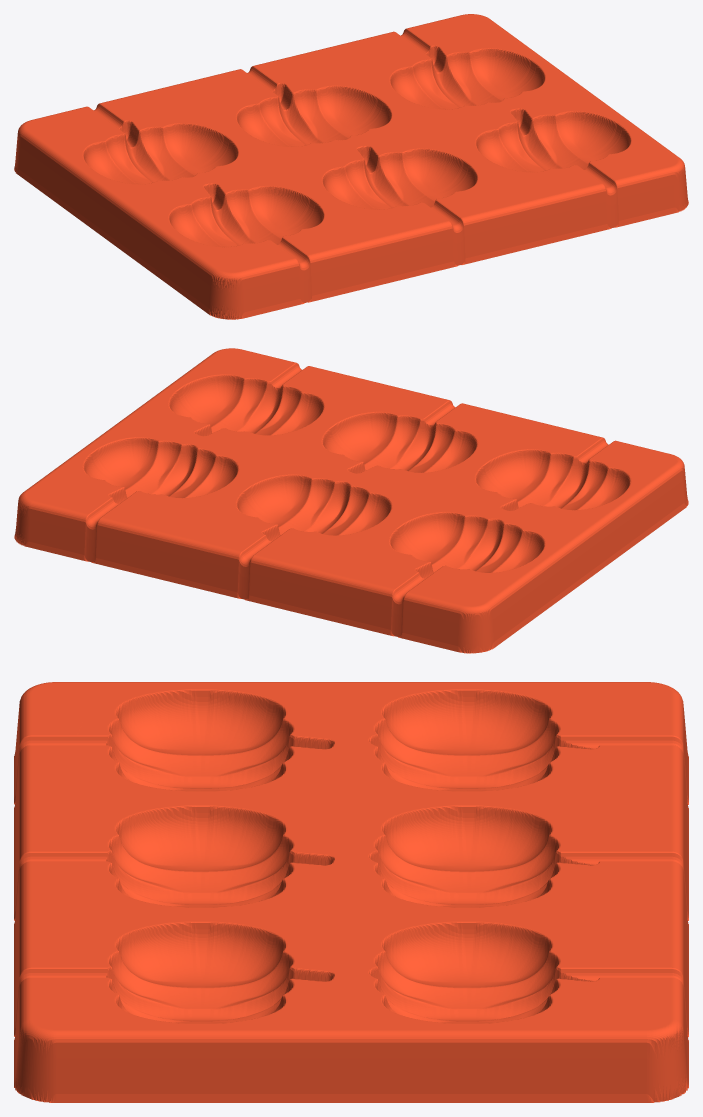
Rendered from mold.glb.
3 renders of one model, top to bottom at view 1: azimuth 30°, elevation 25°; view 2: azimuth 150°, elevation 25°; view 3: azimuth 270°, elevation 25°, orthographic. The views are drawn at different scales.
Visible parts, largest first — view 1: geometry_0; view 2: geometry_0; view 3: geometry_0.
Part boxes in pixels (x1,y1,x2,y2): geometry_0: (14, 14, 688, 319); geometry_0: (14, 348, 688, 653); geometry_0: (14, 682, 688, 1102).
Size of the model in its own units: 0.1824 by 0.0155 by 0.144.
